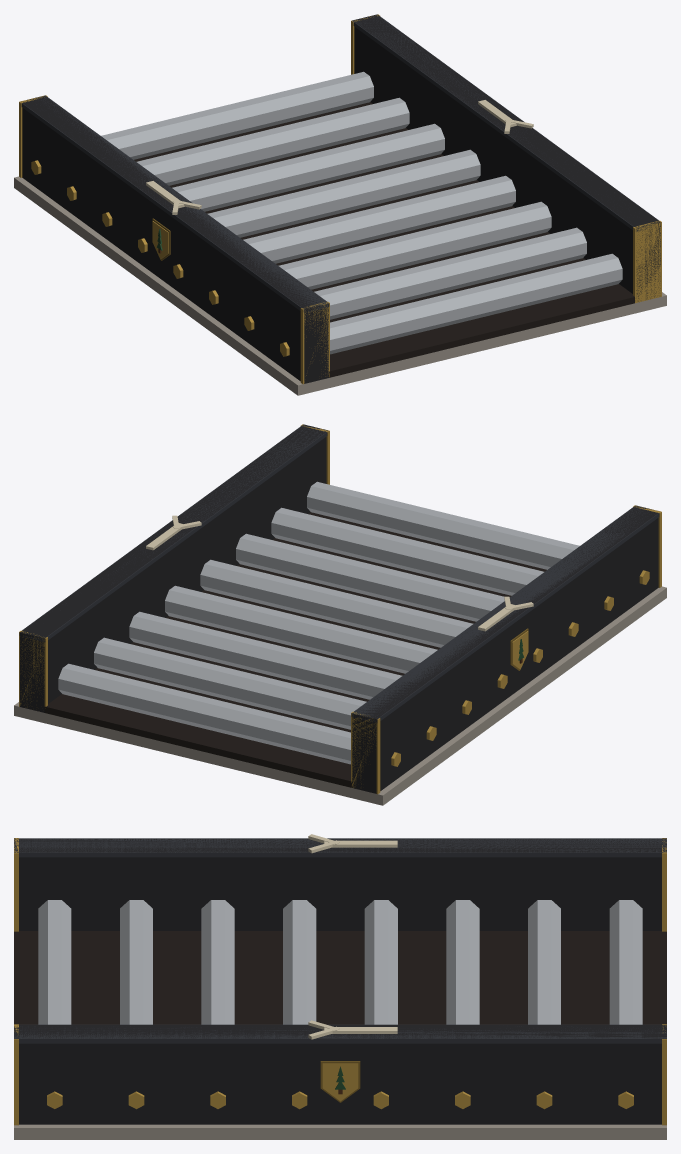
File: ConveyorStraight.glb
3 renders of one model, top to bottom at view 1: azimuth 30°, elevation 25°; view 2: azimuth 150°, elevation 25°; view 3: azimuth 270°, elevation 25°, orthographic. The views are drawn at different scales.
Parts seen in each view (by area): view 1: Rollers, Body, Belt, ArrowDecal; view 2: Rollers, Body, Belt, ArrowDecal; view 3: Body, Belt, Rollers, ArrowDecal.
Part boxes in pixels (x1,y1,x2,y2): Rollers: [31, 71, 622, 356]; Body: [14, 14, 666, 395]; Belt: [134, 102, 634, 377]; ArrowDecal: [146, 100, 533, 214]; Rollers: [58, 481, 649, 766]; Body: [14, 424, 666, 805]; Belt: [44, 512, 546, 787]; ArrowDecal: [146, 515, 533, 631]; Body: [14, 838, 666, 1139]; Belt: [14, 931, 666, 1024]; Rollers: [38, 900, 642, 1109]; ArrowDecal: [308, 834, 397, 1039].
Bounding box in the file's own units: 6 × 1.37 × 8.
